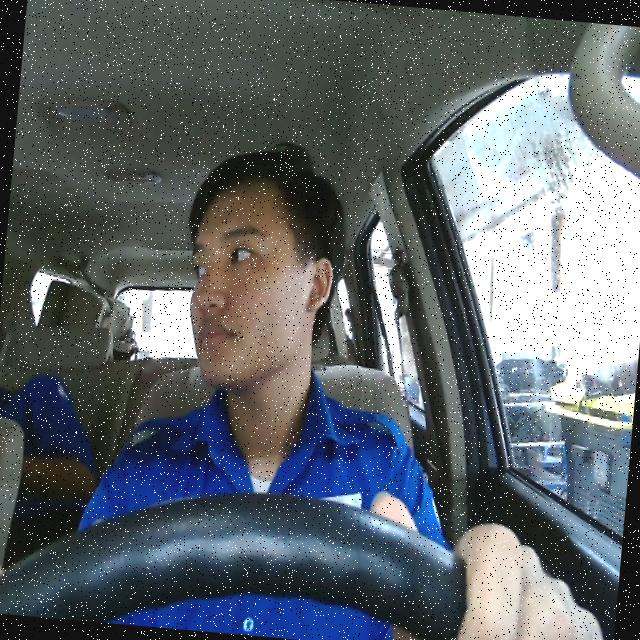seeing_left: (178, 173, 342, 398)
